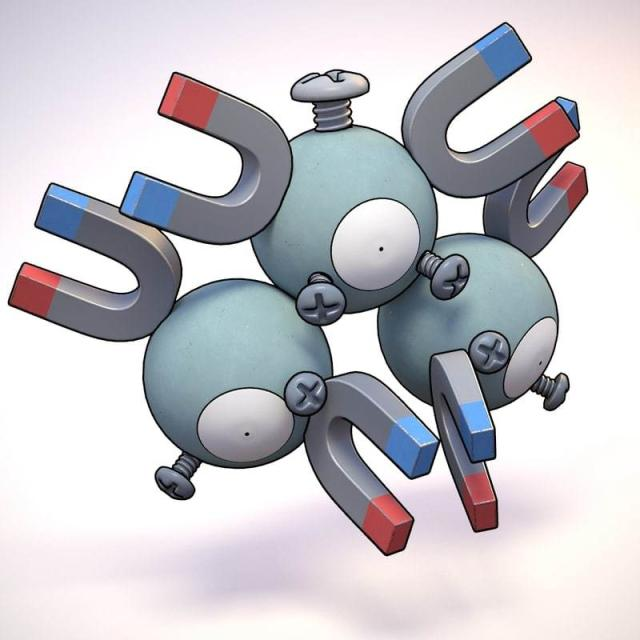Magneton: (100, 57, 578, 534)
